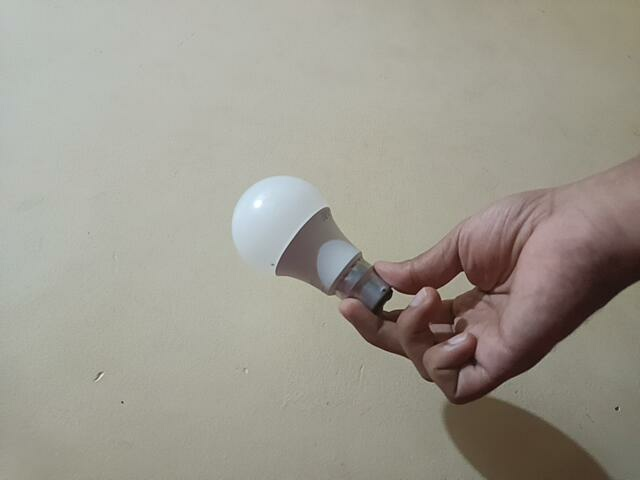Bulb: (232, 174, 395, 319)
